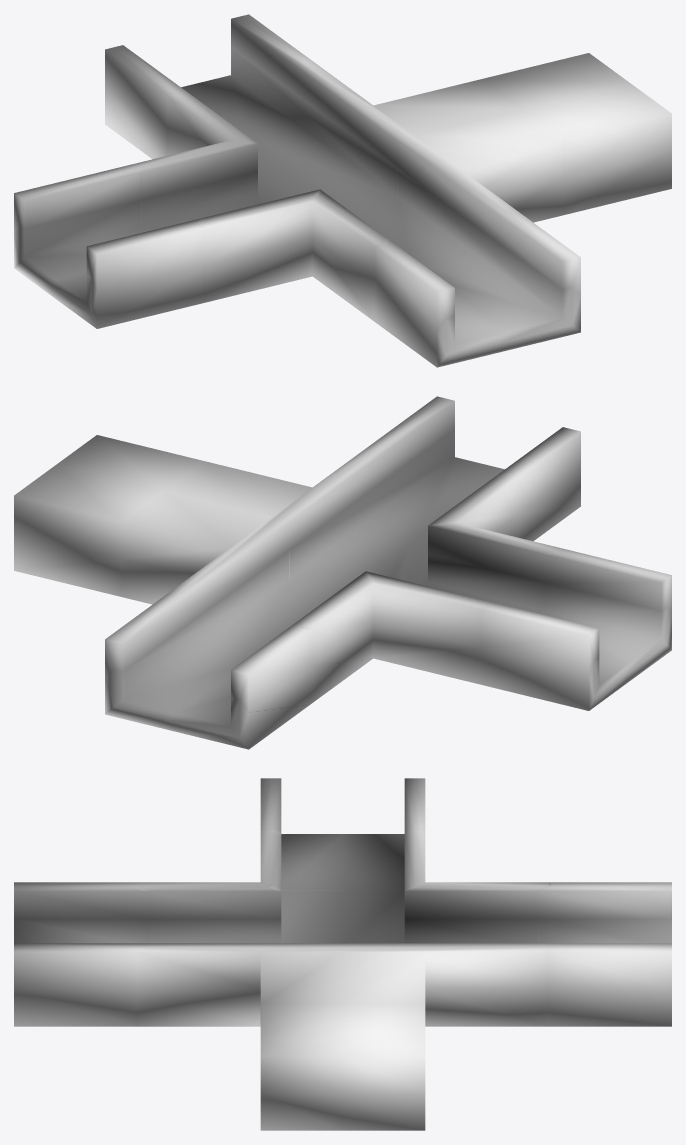
The picture shows the model from 3 angles, top to bottom: view 1: azimuth 30°, elevation 25°; view 2: azimuth 150°, elevation 25°; view 3: azimuth 270°, elevation 25°; orthographic projection.
Visible parts, largest first — view 1: defaultobject; view 2: defaultobject; view 3: defaultobject.
Part boxes in pixels (x1=…): defaultobject: x1=14, y1=14, x2=671, y2=367; defaultobject: x1=14, y1=396, x2=671, y2=749; defaultobject: x1=14, y1=778, x2=671, y2=1130.
Size of the model in its own units: 1 by 0.125 by 1.
1 material, 1 textured.
